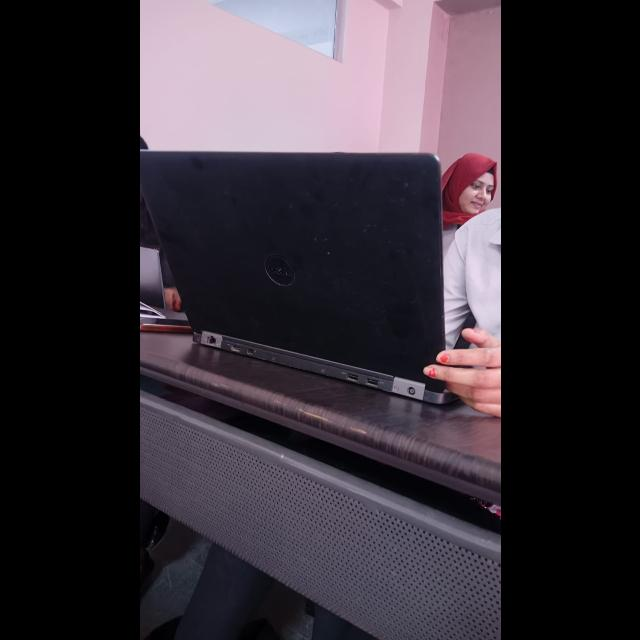laptop: (140, 143, 460, 409)
